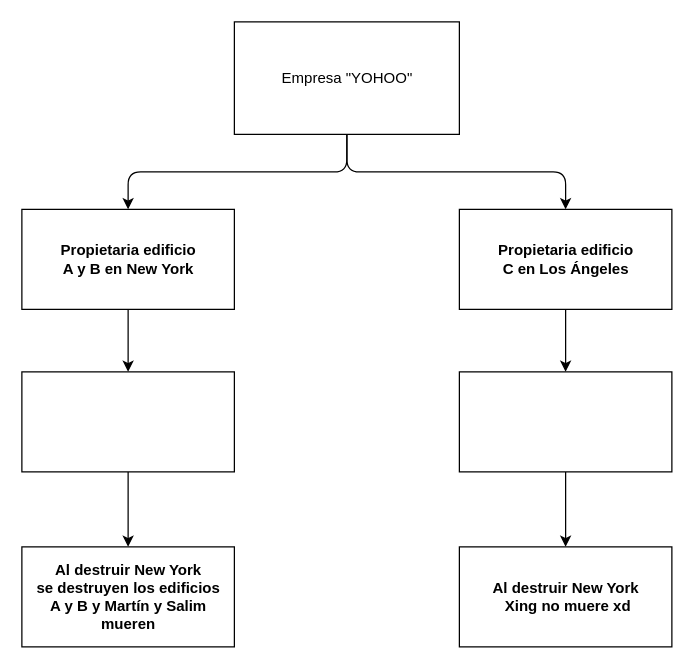
Image size: 694x669. Some labels were removed from this diagram. The centre of each missing label's shape, as x and y in pixels:
"Aqui trabaja Xing" goes at point (565, 421).
"Aqui trabajan Martín y Salim" goes at point (127, 421).
